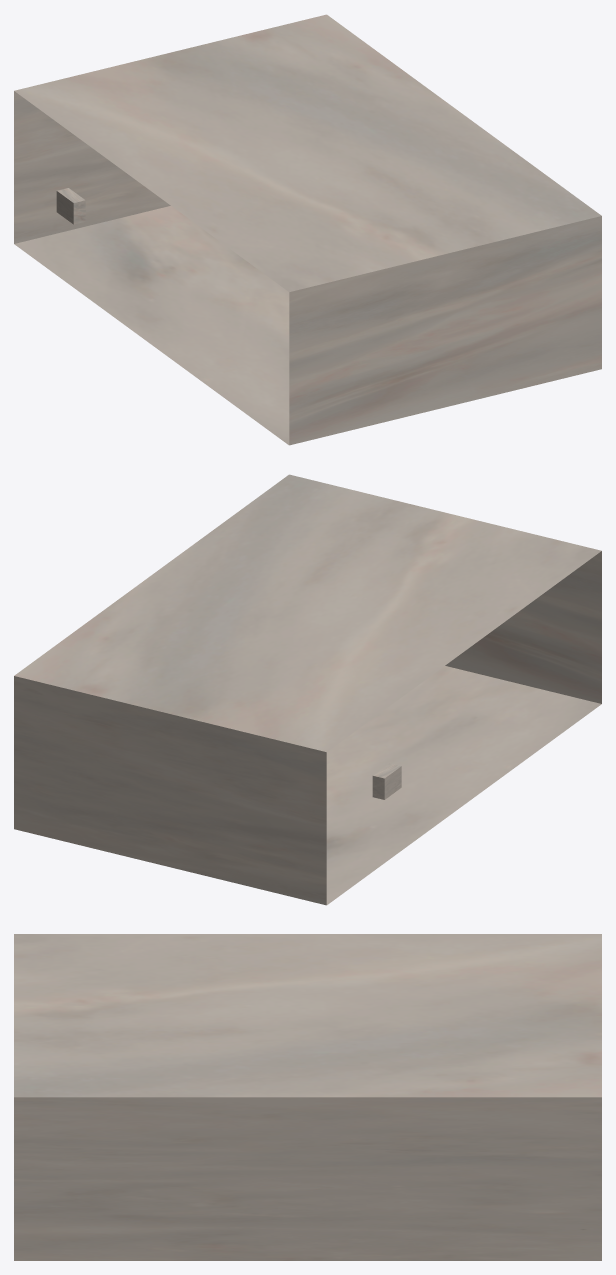
The model's file is RIGAS-BIRZA-caurumi1.glb.
3 renders of one model, top to bottom at view 1: azimuth 30°, elevation 25°; view 2: azimuth 150°, elevation 25°; view 3: azimuth 270°, elevation 25°, orthographic. The views are drawn at different scales.
Parts seen in each view (by area): view 1: Cube.062, Cube.058; view 2: Cube.062, Cube.058; view 3: Cube.062.
Boxes of the visible parts, <box> form: Cube.062: <box>14,14,601,445</box>; Cube.058: <box>56,188,85,224</box>; Cube.062: <box>14,474,601,905</box>; Cube.058: <box>372,763,401,799</box>; Cube.062: <box>14,934,601,1260</box>.
Size of the model in its own units: 21.59 by 9.87 by 32.13.
Materials: 1 (1 with a texture image).
